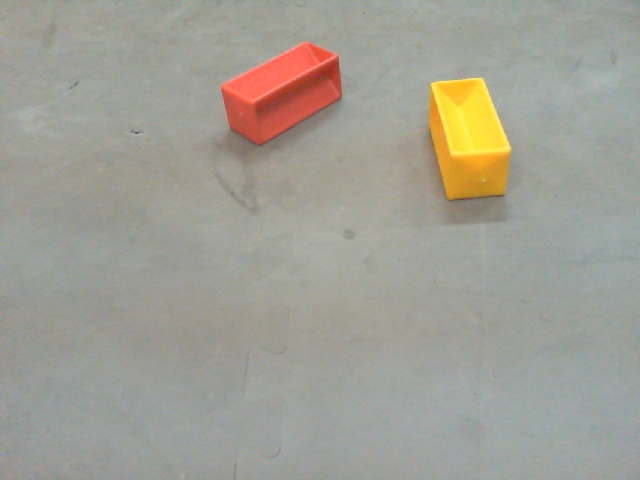RedSample: (218, 41, 343, 145)
YellowSample: (425, 73, 512, 203)
